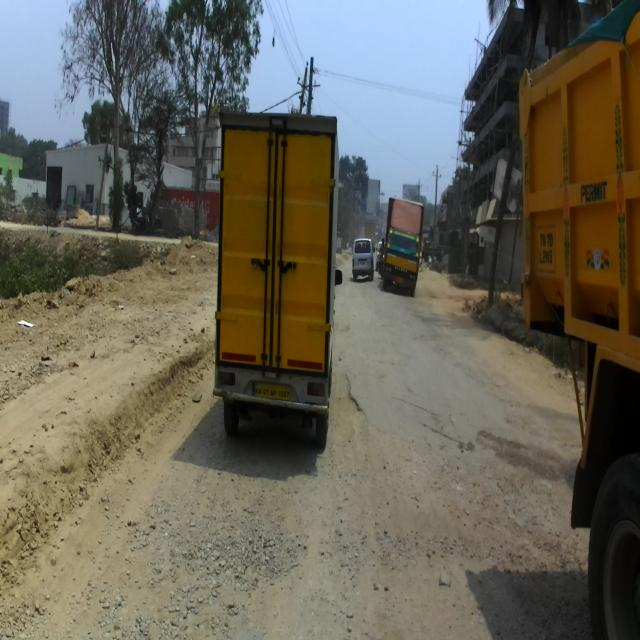truck ahead at: (210, 99, 344, 456)
